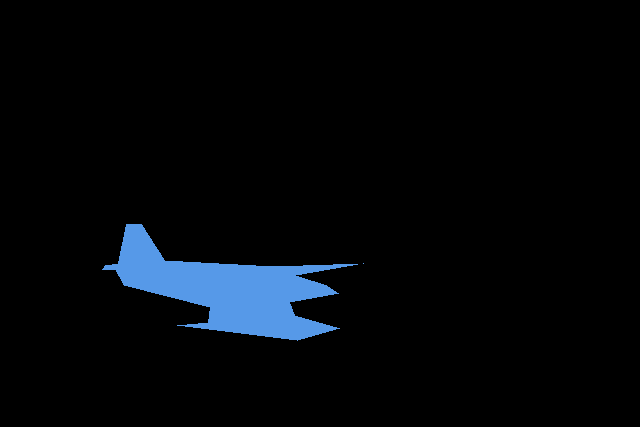Airplane: (102, 224, 364, 341)
